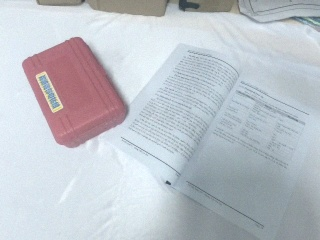box: (23, 36, 130, 149)
